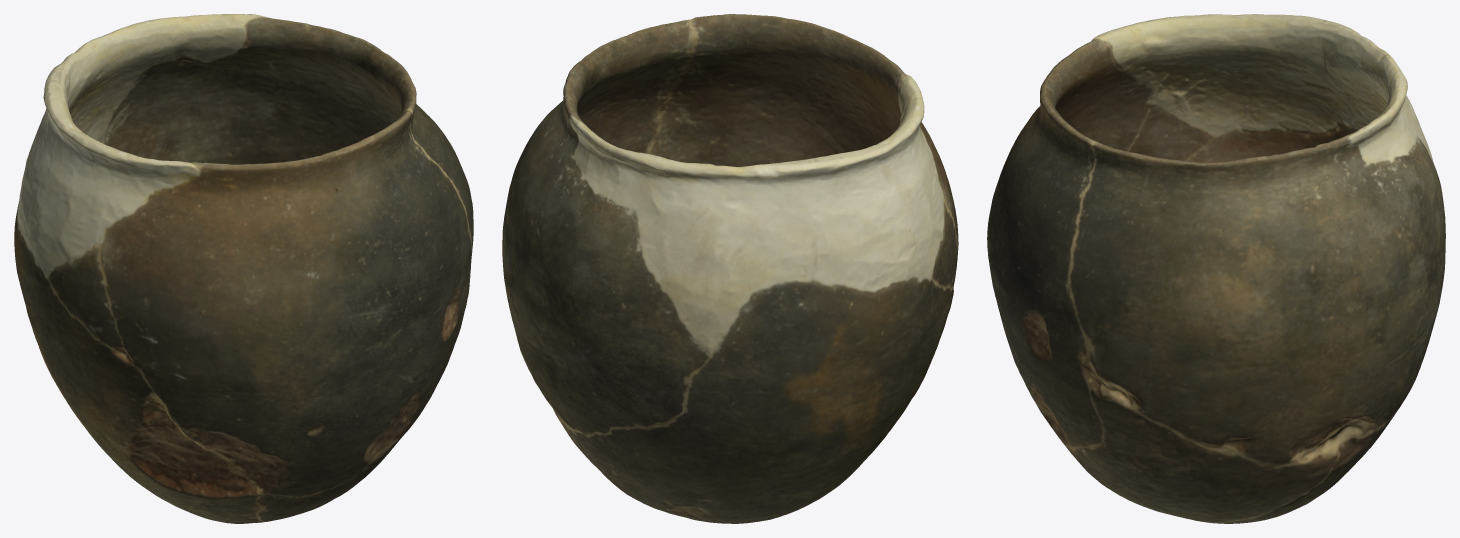
The model's file is qysh_ydys.glb.
3 views of the same model, side by side, from view 1: azimuth 30°, elevation 25°; view 2: azimuth 150°, elevation 25°; view 3: azimuth 270°, elevation 25° (orthographic).
Parts seen in each view (by area): view 1: Object_2, Object_3, Object_4; view 2: Object_3, Object_2, Object_4; view 3: Object_2, Object_3, Object_4.
Part boxes in pixels (<box>): Object_2: <box>23,14,473,523</box>; Object_3: <box>14,25,470,523</box>; Object_4: <box>17,148,471,486</box>; Object_3: <box>504,44,957,523</box>; Object_2: <box>502,14,958,383</box>; Object_4: <box>502,231,918,442</box>; Object_2: <box>987,14,1445,424</box>; Object_3: <box>1020,14,1445,523</box>; Object_4: <box>999,98,1442,523</box>.
Bounding box in the file's own units: 0.2941 × 0.2991 × 0.2939.
Materials: 1 (1 with a texture image).
